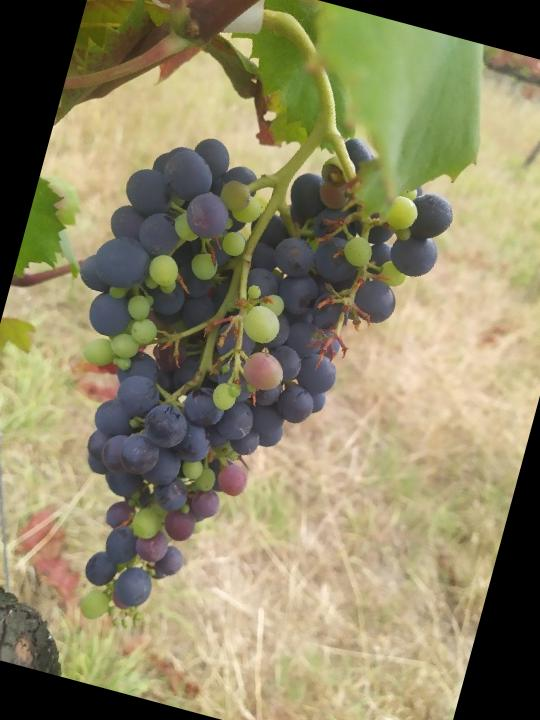grape: (0, 73, 471, 687)
